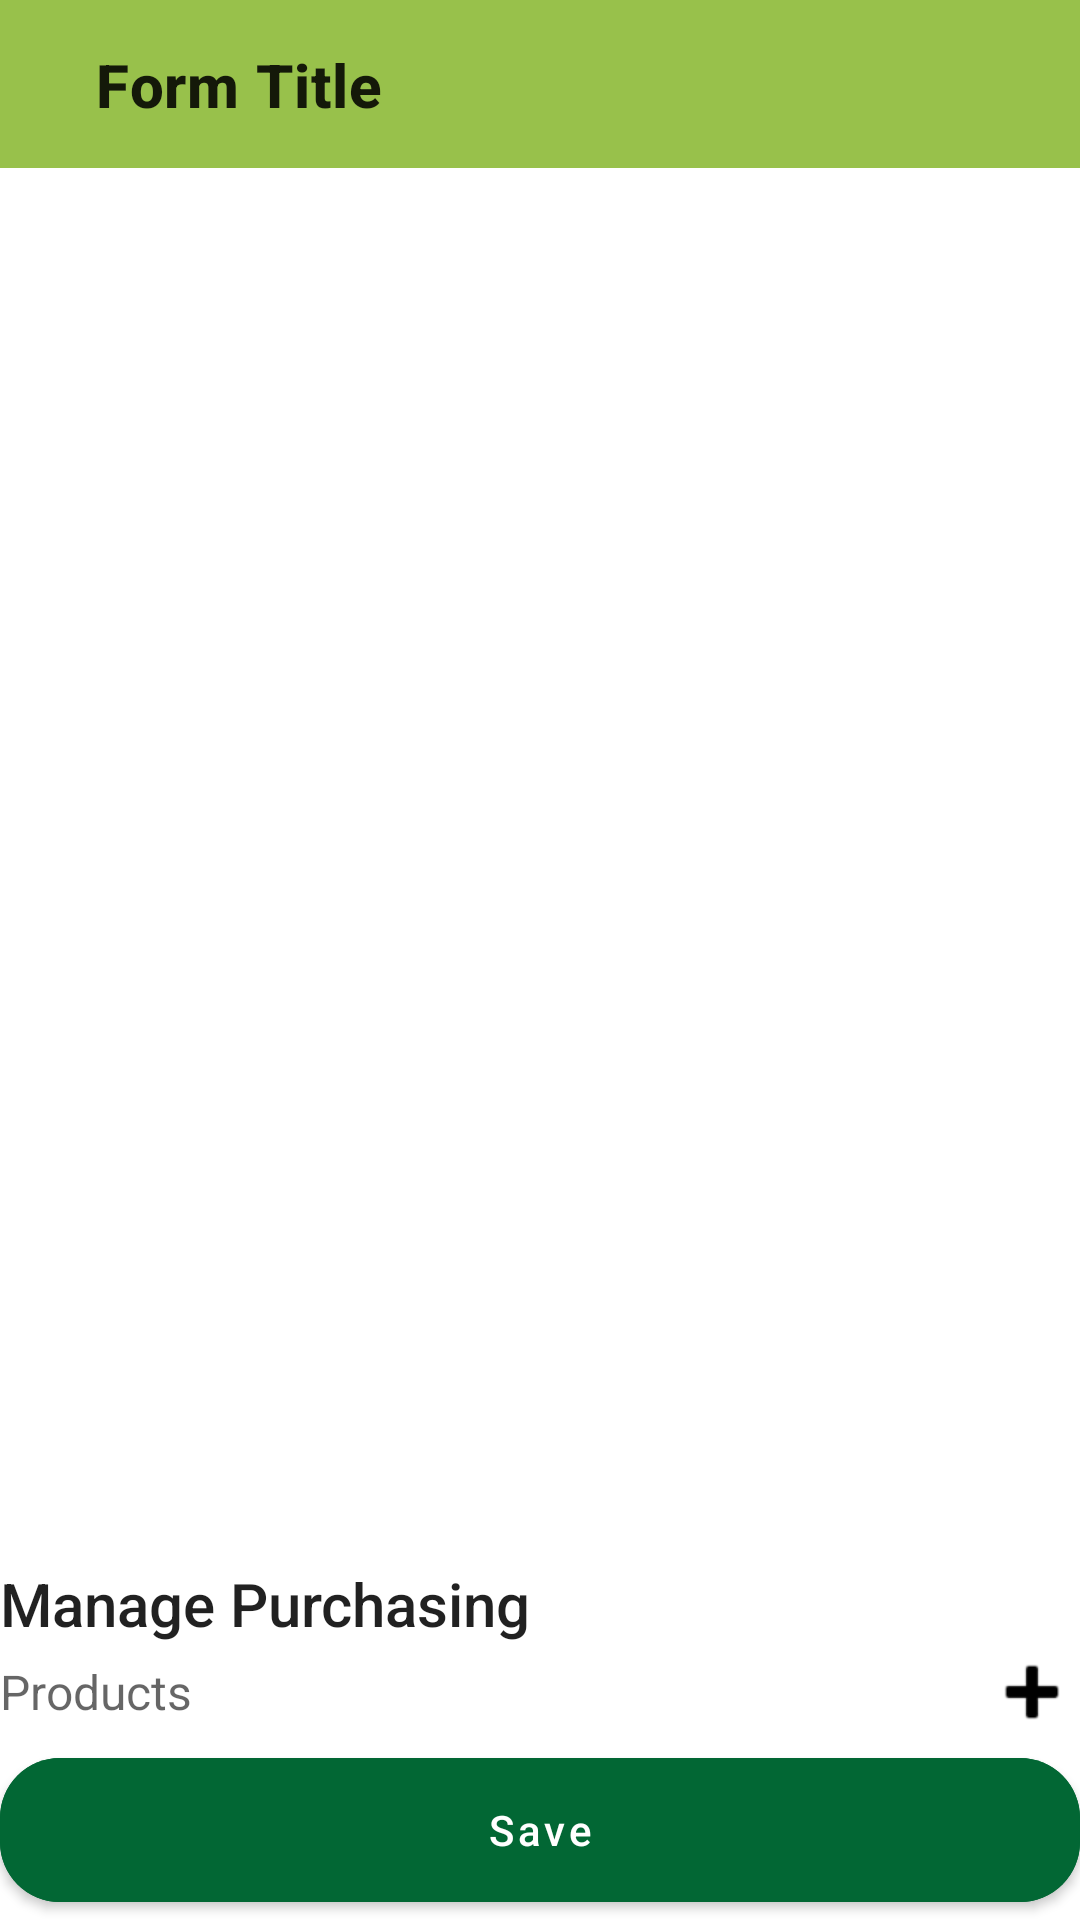

Point at icon controls on the screen. Image size 1080 x 1920, points as (x=x, y=y).
add: (x=1032, y=1692)
